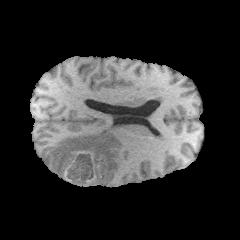glioma: (49, 128, 125, 186)
